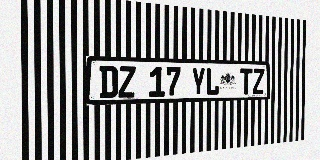1: (149, 66, 165, 97)
7: (165, 67, 181, 97)
D: (99, 66, 118, 98)
L: (206, 68, 219, 96)
T: (240, 68, 252, 95)
Y: (191, 67, 205, 96)
Z: (118, 66, 136, 98), (253, 68, 264, 94)
